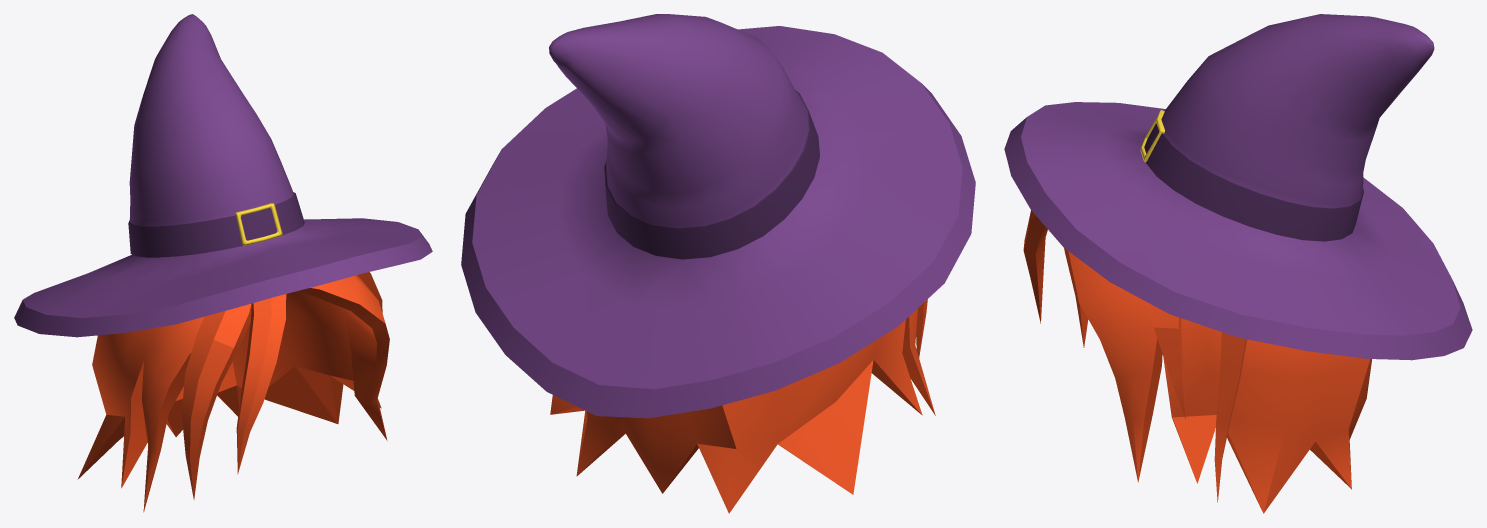
File: witch_hair.fbx
The picture shows the model from 3 angles, left to right: view 1: azimuth 30°, elevation 25°; view 2: azimuth 150°, elevation 25°; view 3: azimuth 270°, elevation 25°; orthographic projection. The views are drawn at different scales.
Parts seen in each view (by area): view 1: witch_hat; view 2: witch_hat; view 3: witch_hat.
Boxes of the visible parts, left/top/right/bottom form: witch_hat: left=14, top=14, right=432, bottom=512; witch_hat: left=461, top=14, right=975, bottom=513; witch_hat: left=1004, top=14, right=1472, bottom=513.
Bounding box in the file's own units: 178 × 179 × 170.
